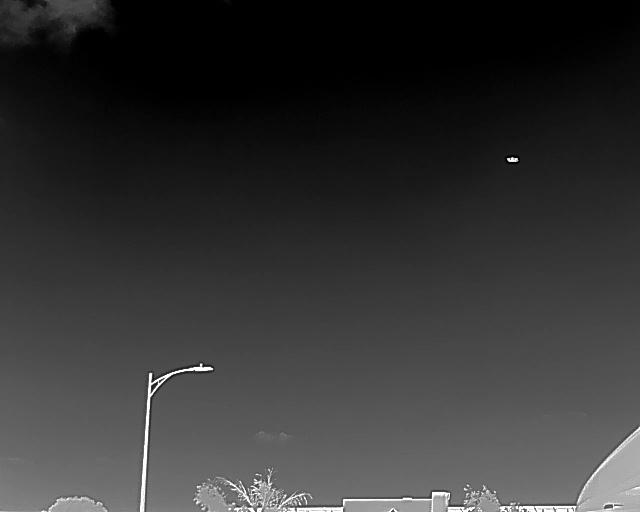fpv-drone: (504, 155, 519, 164)
